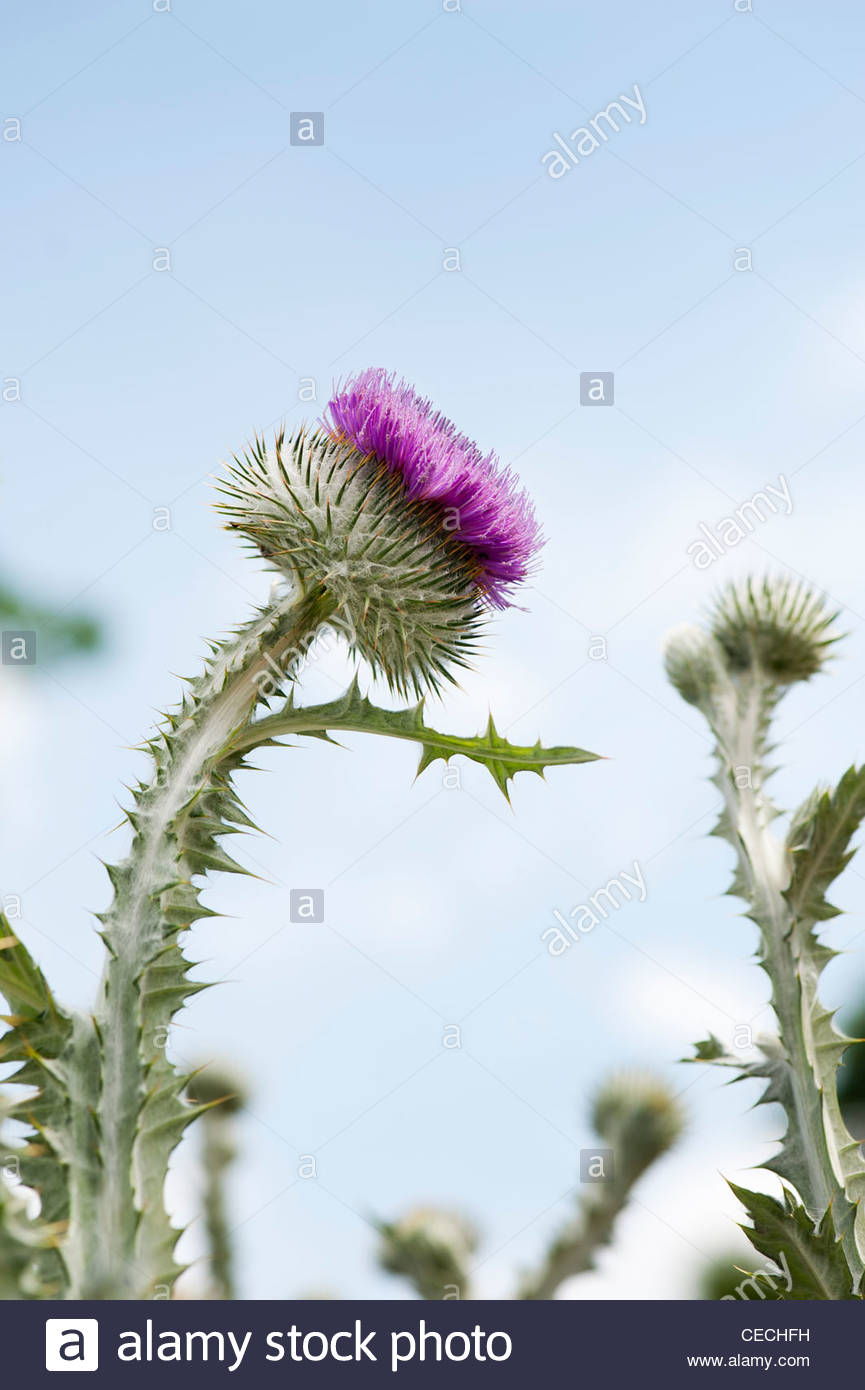thistle: (222, 349, 547, 689)
